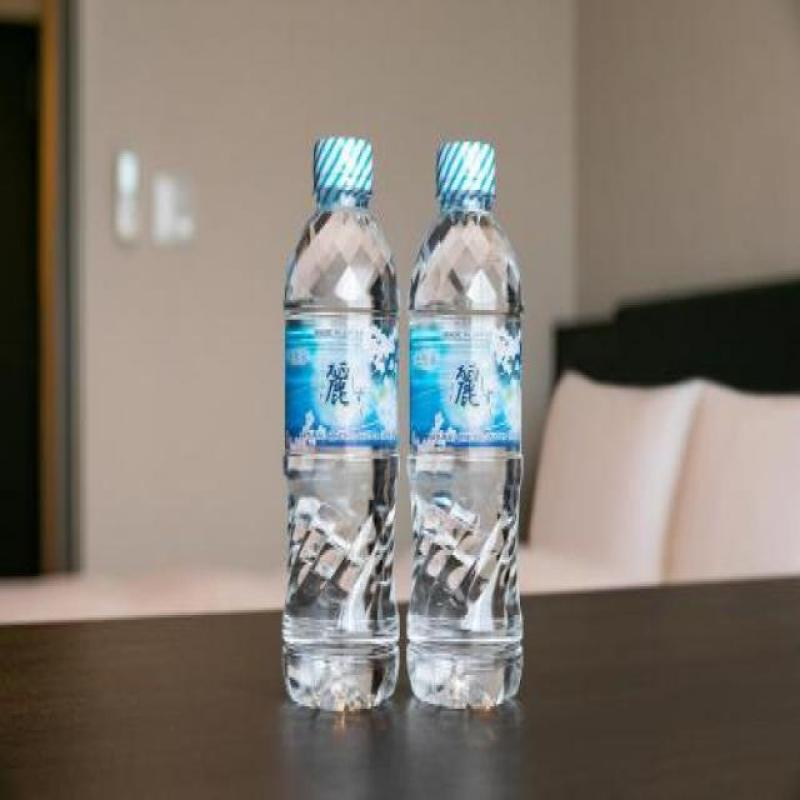botella: (282, 137, 400, 712), (406, 141, 525, 709)
